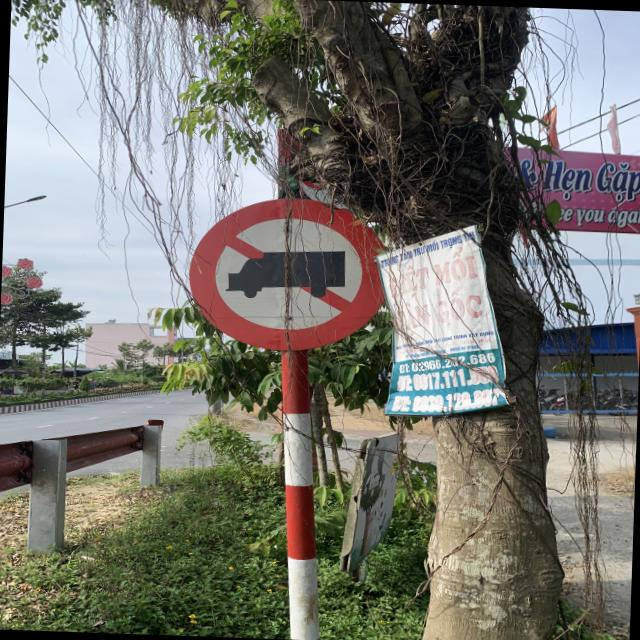Cam_Xe_Tai: (183, 191, 389, 353)
